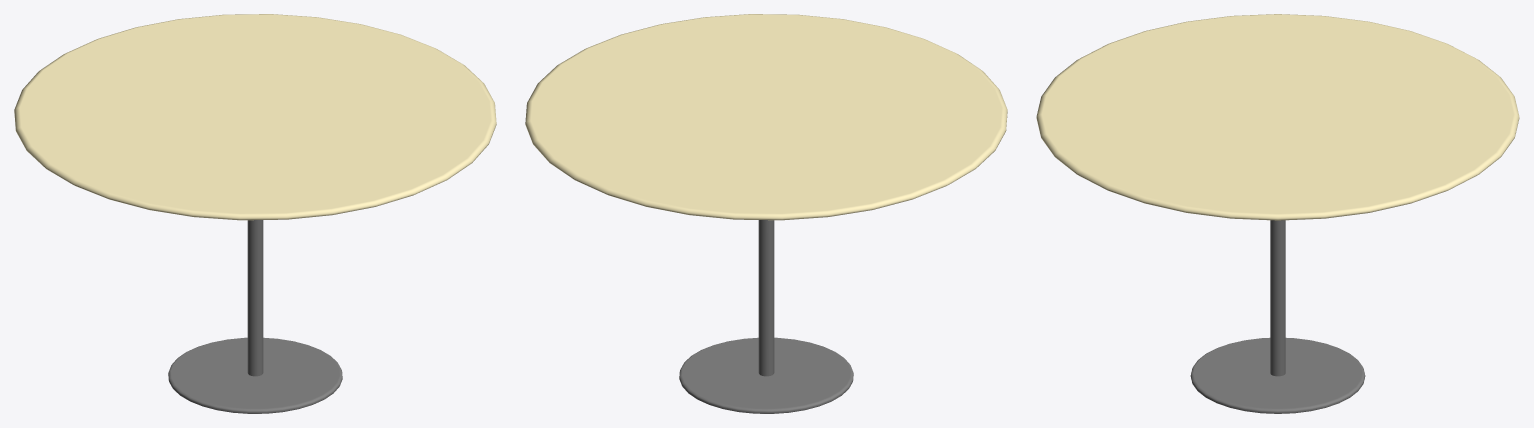
Rendered from DinerRoundTable.fbx.
The picture shows the model from 3 angles, left to right: view 1: azimuth 30°, elevation 25°; view 2: azimuth 150°, elevation 25°; view 3: azimuth 270°, elevation 25°; orthographic projection.
Visible parts, largest first — view 1: DinerRoundTable; view 2: DinerRoundTable; view 3: DinerRoundTable.
Boxes of the visible parts, x1,y1,x2,y2 form: DinerRoundTable: (14, 14, 496, 413); DinerRoundTable: (525, 14, 1007, 413); DinerRoundTable: (1036, 14, 1519, 413).
Size of the model in its own units: 2.02 by 1.21 by 2.02.
